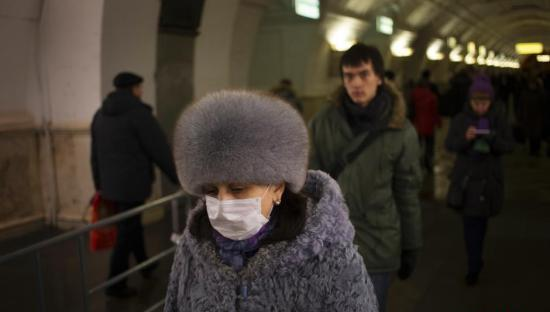NONE: (342, 67, 375, 103), (472, 100, 492, 118)
OK: (204, 173, 274, 240)
